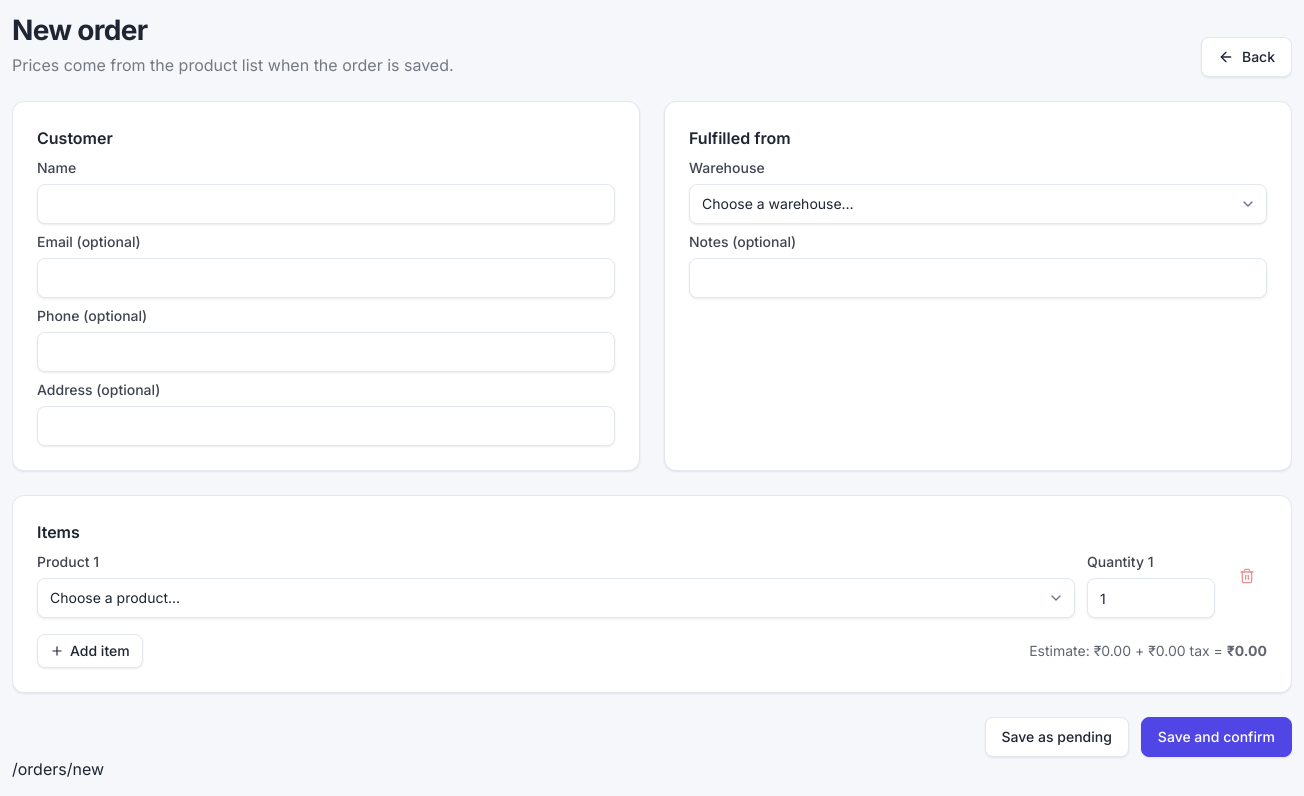
Scenario: OrderFormPage — new order › items can be added and removed, and the estimate follows
Check: the button named "Remove item 1" is disabled, box 1227,556 -> 1267,596
Step 1. Select "Laptop Pro (LAP-001) — ₹1,000.00" in the dropdown labelled "Product 1" → (556, 598), box 37,578 -> 1075,618
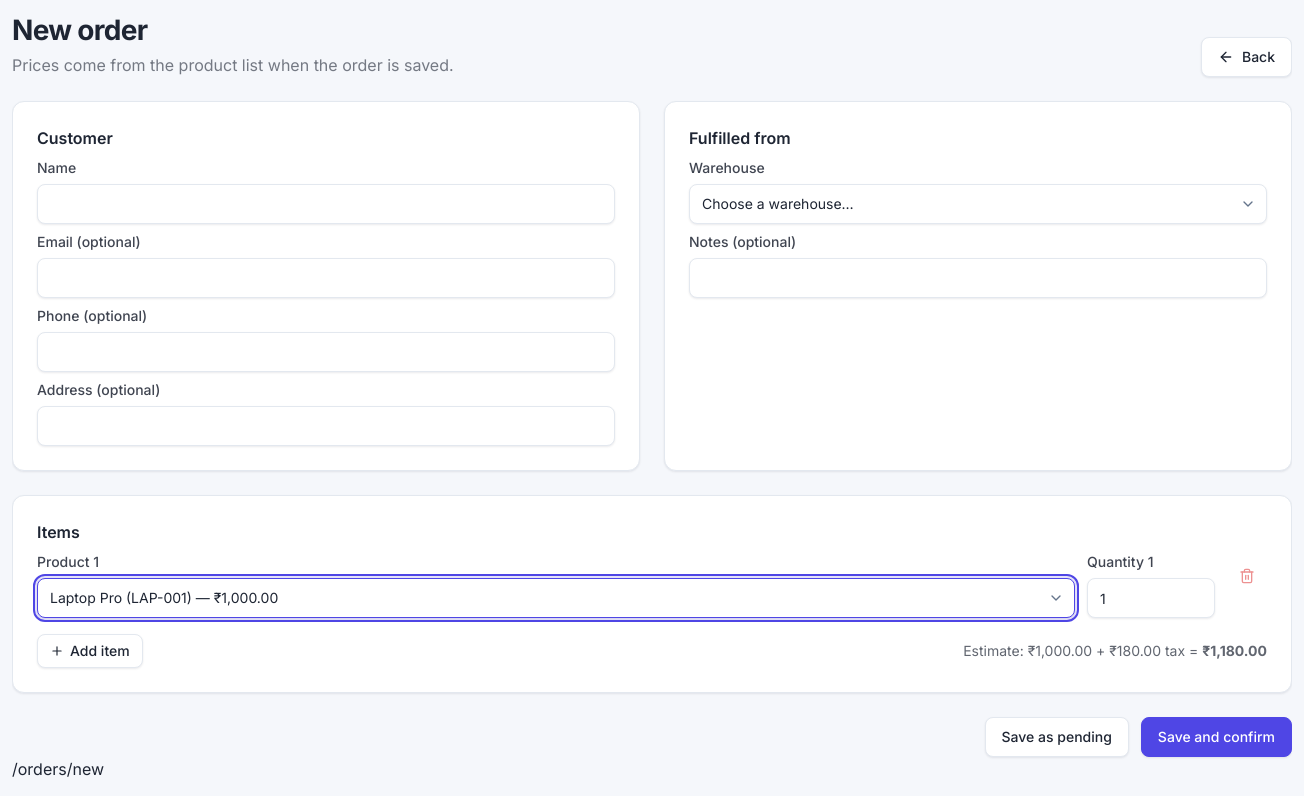
Step 2. Replace the text in the number field labelled "Quantity 1" with "2" → (1151, 598), box 1087,578 -> 1215,618
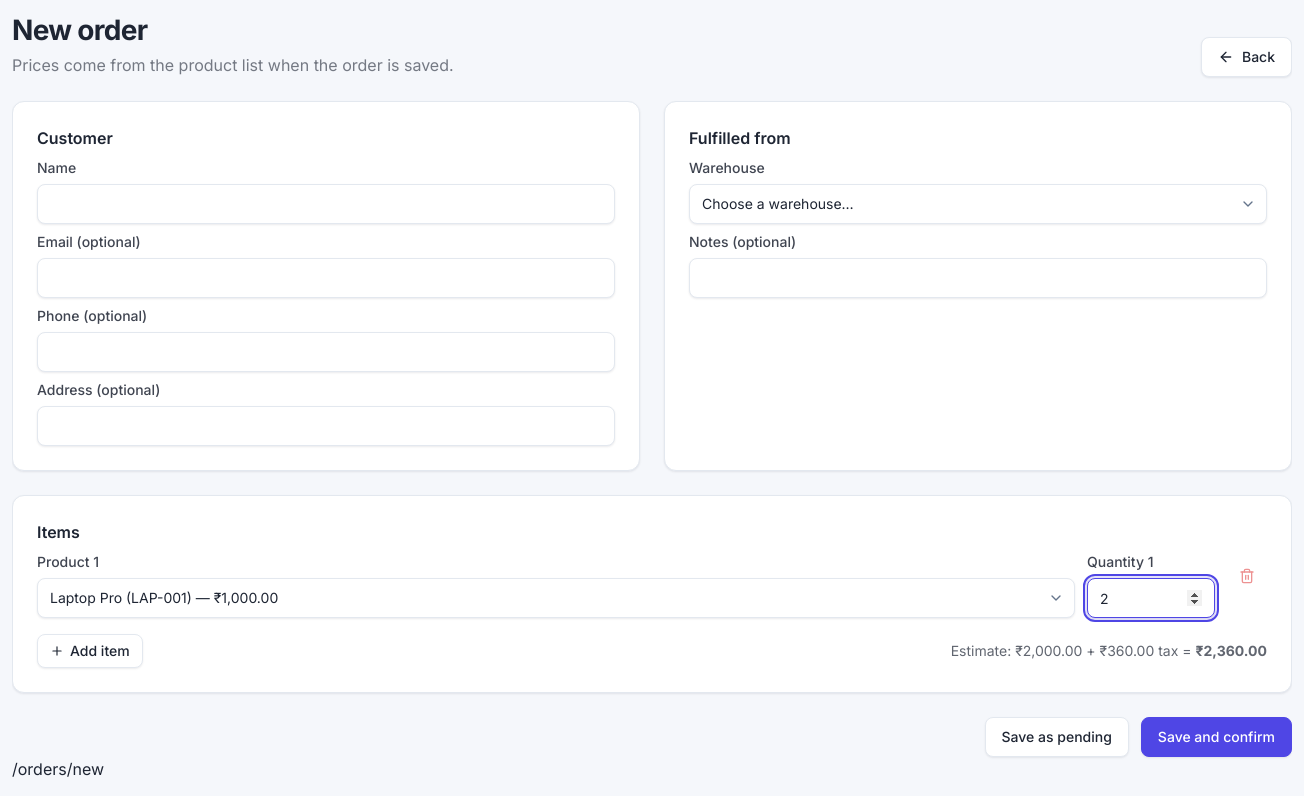
Check: the element with test id "estimate" shows "₹2,000.00 + ₹360.00 tax = ₹2,360.00", box 951,641 -> 1267,661
Step 3. Click the button "Add item" → click(90, 651), box 37,634 -> 143,668
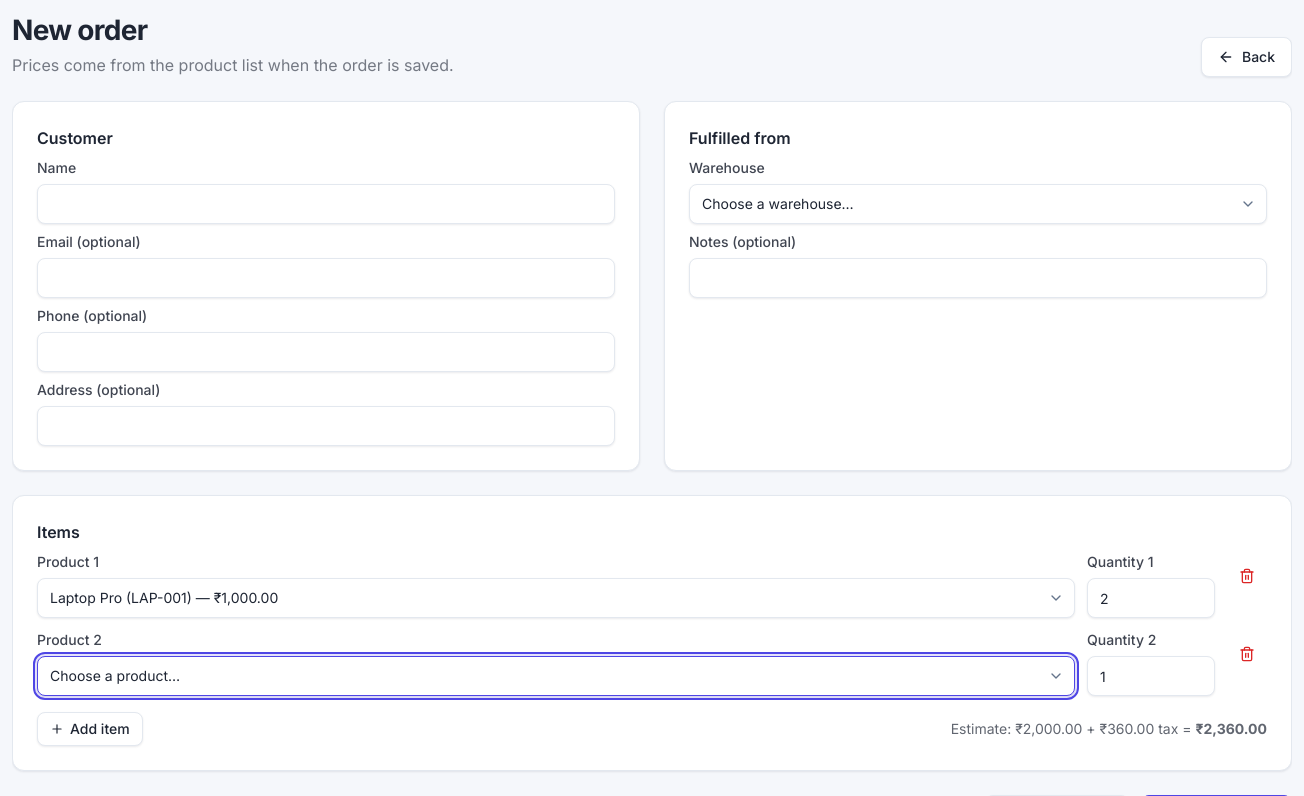
Step 4. Select "Mouse (MOU-M185) — ₹500.00" in the dropdown labelled "Product 2" → (556, 676), box 37,656 -> 1075,696
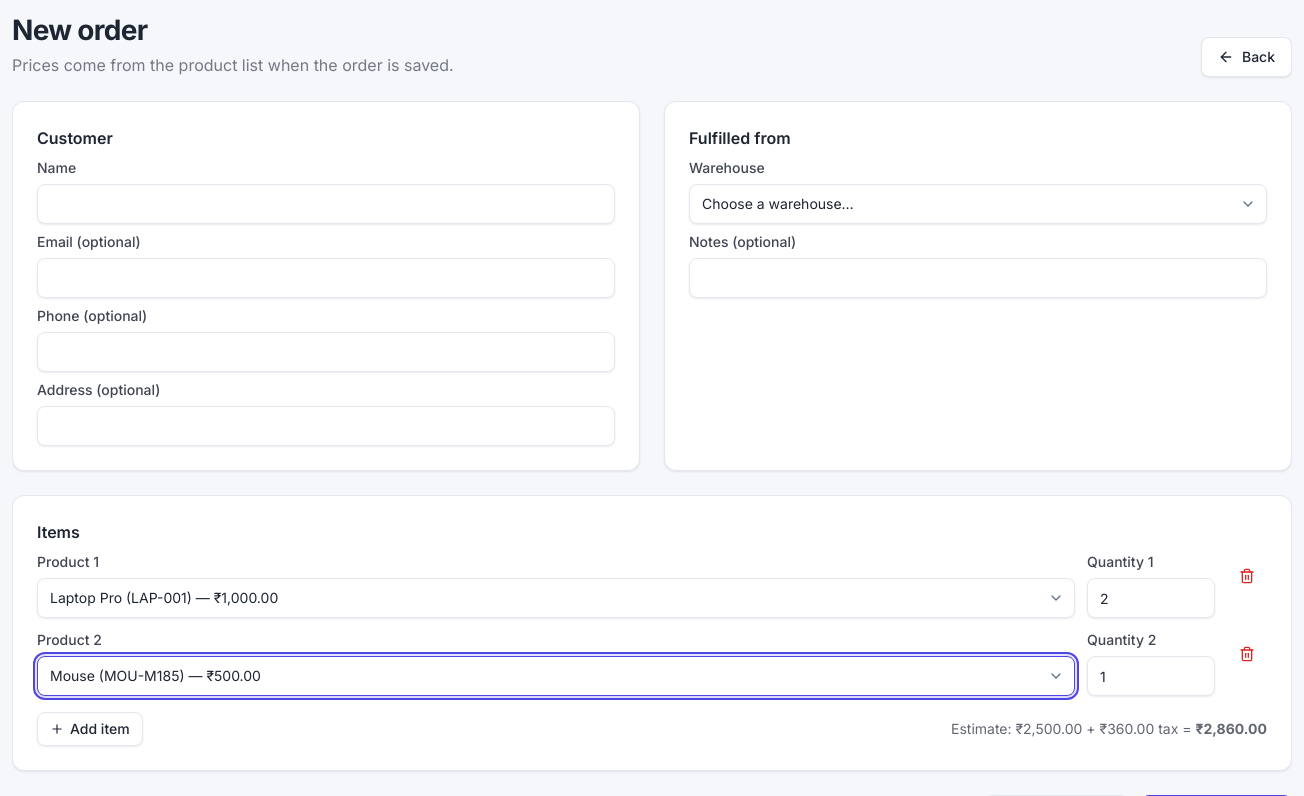
Check: the element with test id "estimate" shows "₹2,500.00 + ₹360.00 tax = ₹2,860.00", box 951,719 -> 1267,739
Step 5. Click the button named "Remove item 2" → click(1247, 654), box 1227,634 -> 1267,674
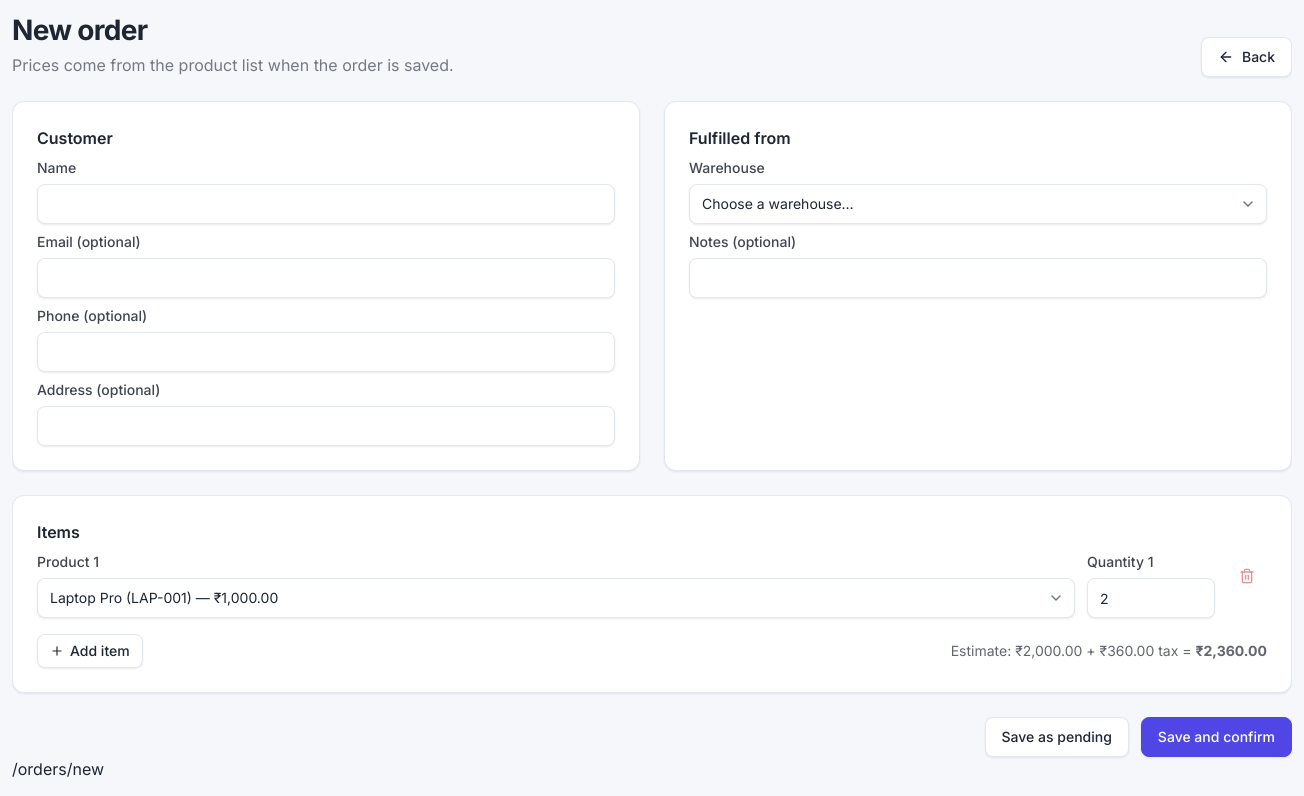
Check: the label labelled "Product 2" is gone
Check: the element with test id "estimate" shows "₹2,360.00", box 1196,642 -> 1267,659
